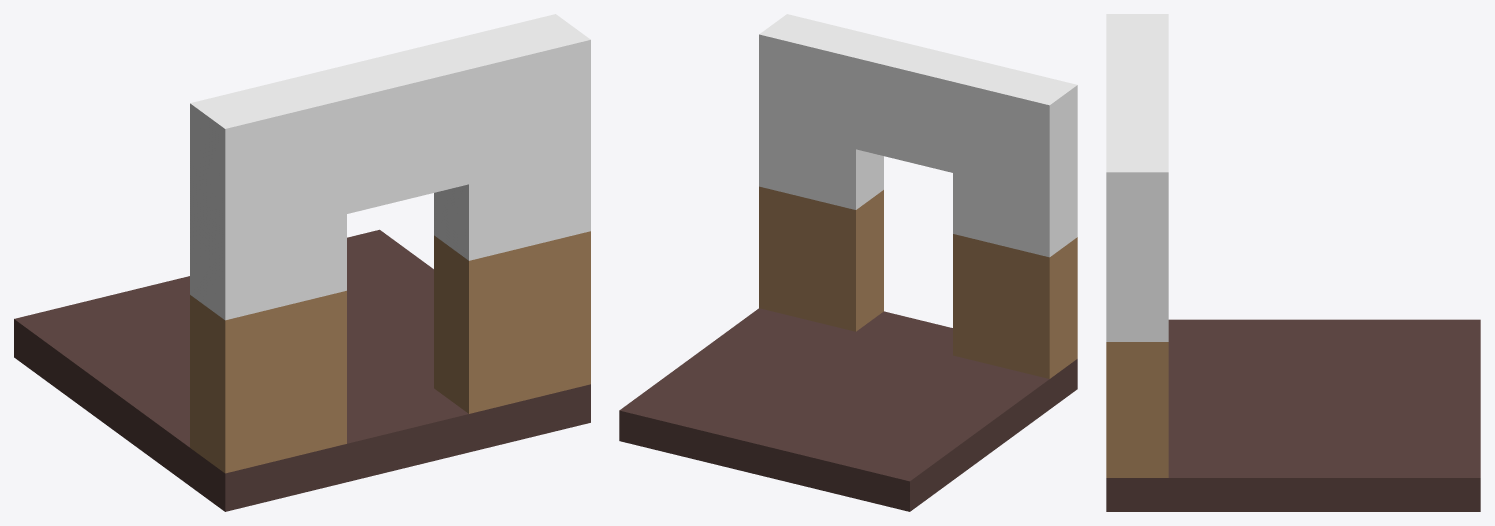
The model's file is wall_door.FBX.
3 renders of one model, left to right at view 1: azimuth 30°, elevation 25°; view 2: azimuth 150°, elevation 25°; view 3: azimuth 270°, elevation 25°, orthographic. The views are drawn at different scales.
Visible parts, largest first — view 1: Object255; view 2: Object255; view 3: Object255.
Part boxes in pixels (x1=…): Object255: x1=14, y1=14, x2=590, y2=511; Object255: x1=619, y1=14, x2=1077, y2=511; Object255: x1=1106, y1=14, x2=1480, y2=511.
Bounding box in the file's own units: 100 × 100 × 100.
